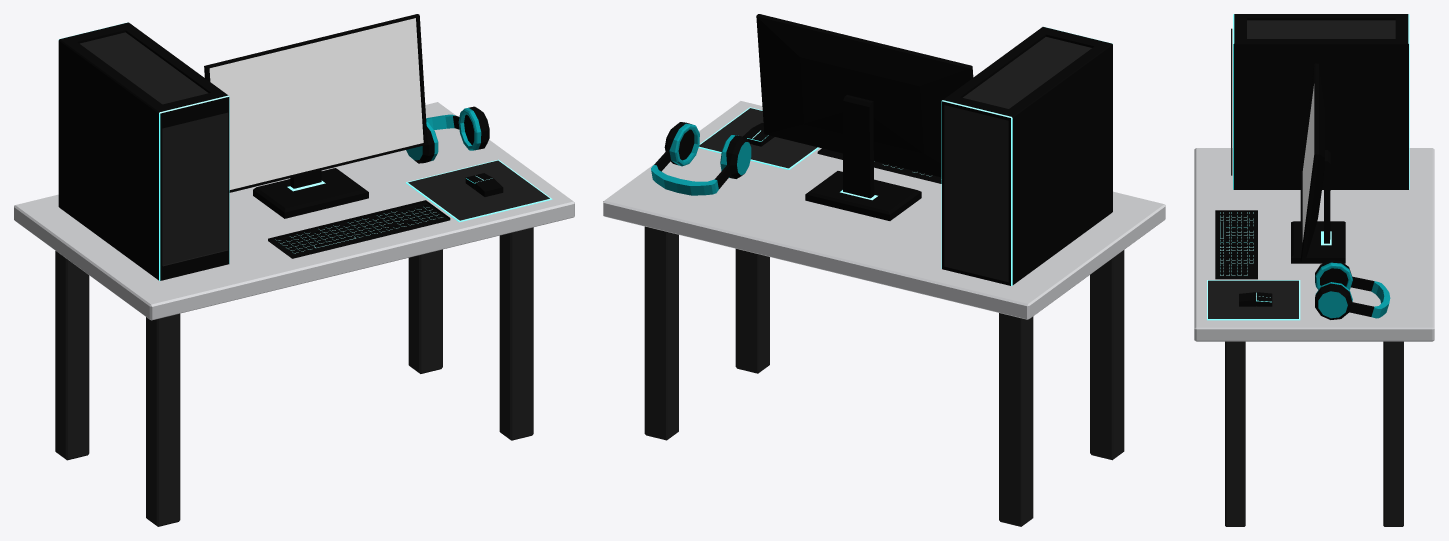
The model's file is pcModel.glb.
3 renders of one model, left to right at view 1: azimuth 30°, elevation 25°; view 2: azimuth 150°, elevation 25°; view 3: azimuth 270°, elevation 25°, orthographic. The views are drawn at different scales.
Visible parts, largest first — view 1: table, cpu, monitor, Plane, keyboard, headset; view 2: table, cpu, monitor, headset, Plane, keyboard; view 3: table, cpu, monitor, Plane, keyboard, headset, mouse.
Part boxes in pixels (x1=…): table: x1=14, y1=102, x2=574, y2=526; cpu: x1=58, y1=22, x2=229, y2=280; monitor: x1=204, y1=14, x2=427, y2=218; Plane: x1=406, y1=159, x2=552, y2=222; keyboard: x1=268, y1=200, x2=450, y2=258; headset: x1=406, y1=106, x2=489, y2=163; table: x1=603, y1=101, x2=1165, y2=526; cpu: x1=941, y1=26, x2=1112, y2=285; monitor: x1=756, y1=14, x2=973, y2=220; headset: x1=651, y1=122, x2=751, y2=195; Plane: x1=698, y1=107, x2=819, y2=169; keyboard: x1=817, y1=148, x2=941, y2=183; table: x1=1194, y1=148, x2=1434, y2=526; cpu: x1=1231, y1=14, x2=1409, y2=189; monitor: x1=1291, y1=63, x2=1345, y2=263; Plane: x1=1207, y1=280, x2=1300, y2=320; keyboard: x1=1215, y1=210, x2=1257, y2=279; headset: x1=1315, y1=260, x2=1390, y2=319; mouse: x1=1239, y1=292, x2=1272, y2=306.
Bounding box in the file's own units: 5.28 × 4.86 × 2.97.
